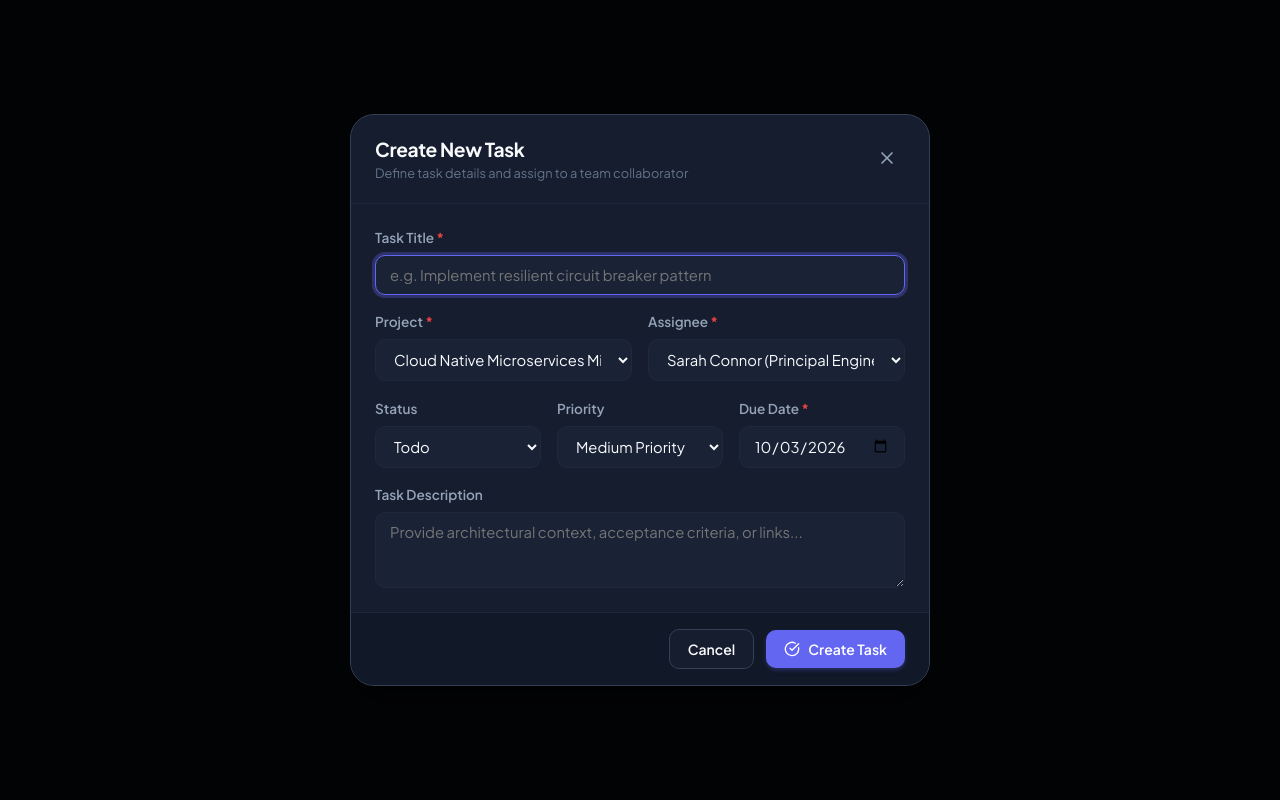
Scenario: TaskForm Validation and Submission Experience › validates required fields when submitted empty
Expected: the field labelled "Task Title *" is shown, [375,255,905,295]
// Click submit
Click the button "Create Task".
click(836, 649)  # box [766,630,905,668]
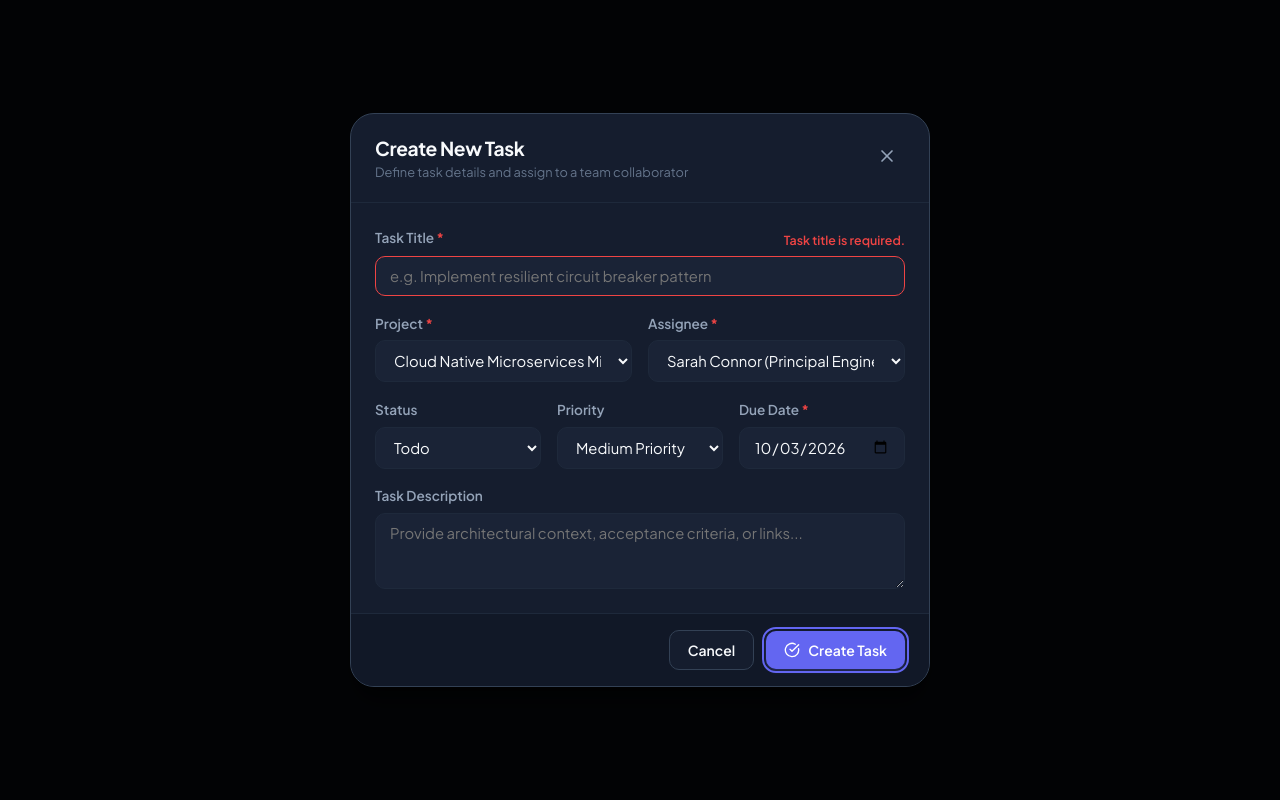
Expected: the text "Task title is required." is shown, [784,231,905,250]
